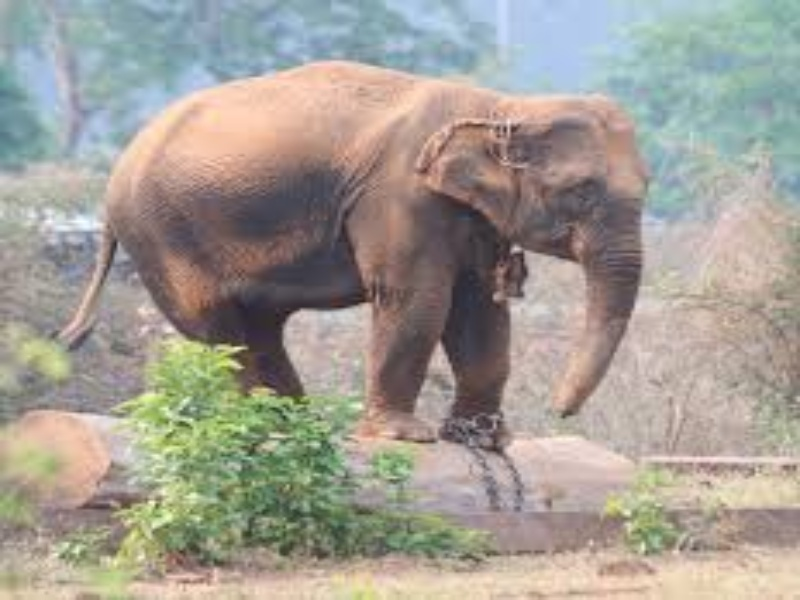elephant: (66, 61, 659, 449)
